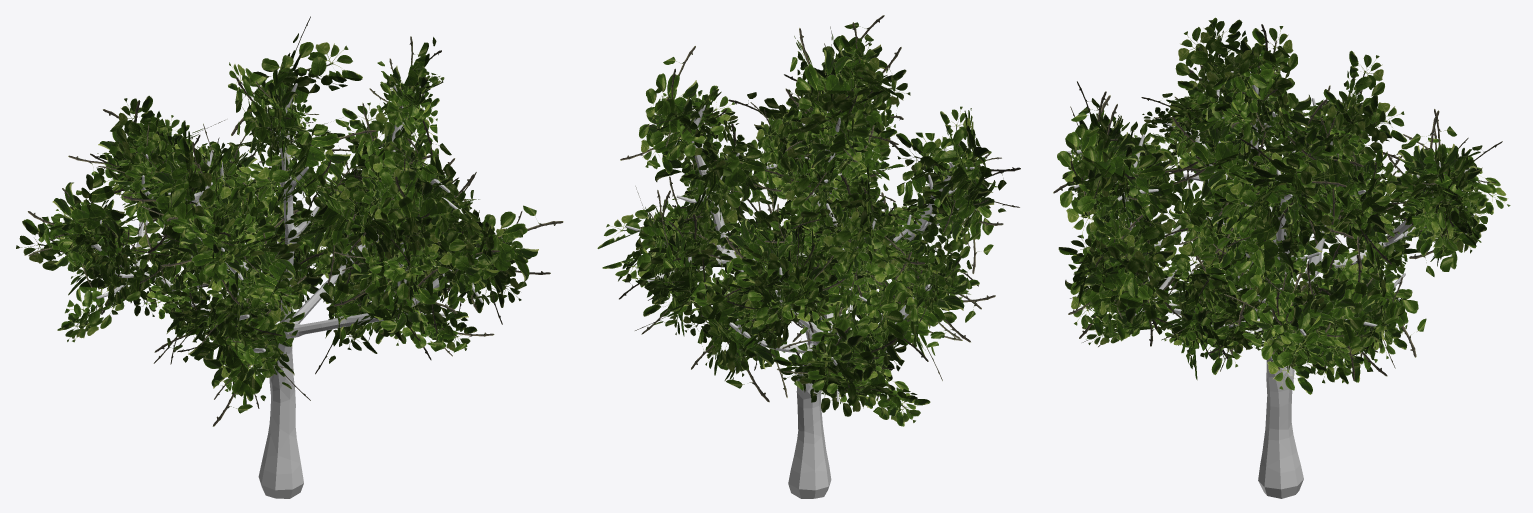
Rendered from arbolNormal.fbx.
The picture shows the model from 3 angles, left to right: view 1: azimuth 30°, elevation 25°; view 2: azimuth 150°, elevation 25°; view 3: azimuth 270°, elevation 25°; orthographic projection. The views are drawn at different scales.
Parts seen in each view (by area): view 1: rama.363, Plane; view 2: rama.363, Plane; view 3: rama.363, Plane.
Boxes of the visible parts, x1,y1,x2,y2 form: rama.363: [16, 16, 563, 426]; Plane: [69, 83, 483, 498]; rama.363: [597, 15, 1020, 426]; Plane: [625, 59, 974, 498]; rama.363: [1053, 17, 1510, 394]; Plane: [1067, 71, 1470, 498].
Size of the model in its own units: 536 by 620 by 543.
